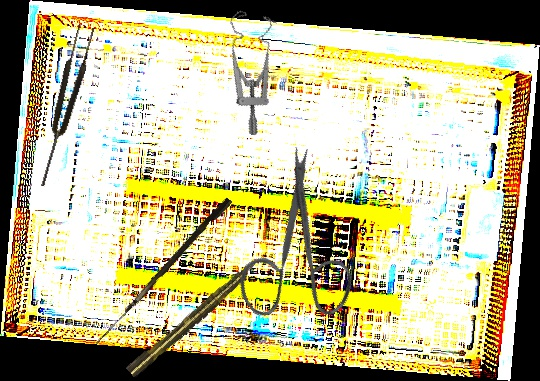Handpiece: (124, 256, 264, 379)
Hook Surgical: (95, 194, 233, 351)
Iris Scissors: (188, 140, 395, 352)
Speculum: (193, 4, 300, 137)
Tissue Forceps: (31, 23, 98, 189)
